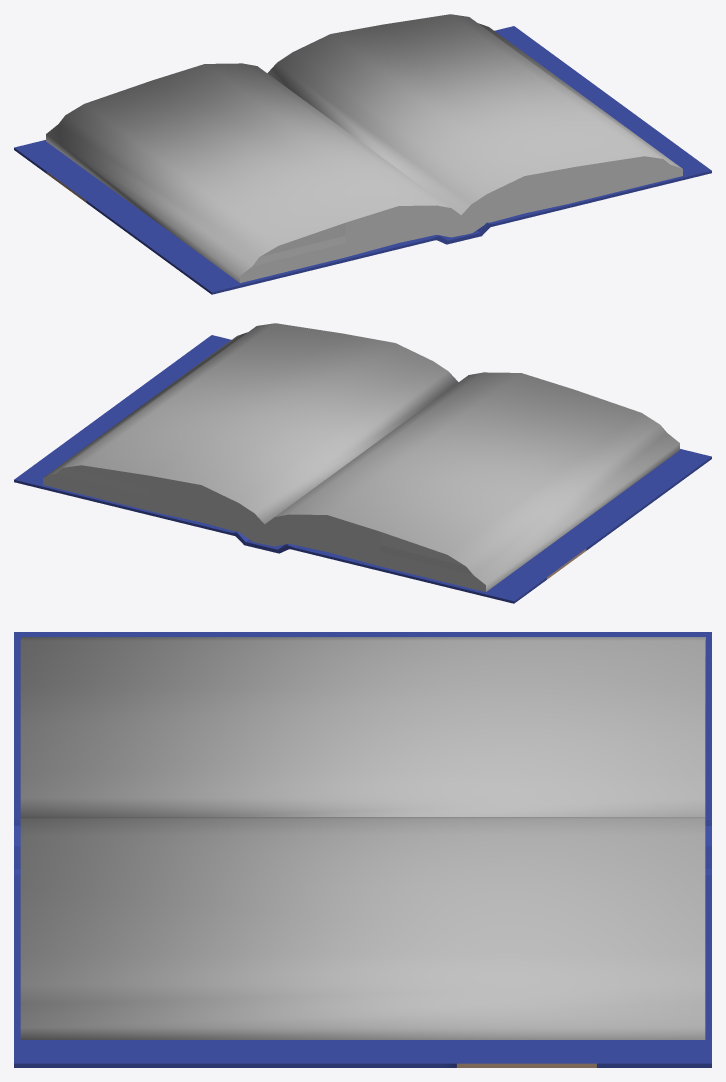
Rendered from book (4).fbx.
3 views of the same model, one above another, from view 1: azimuth 30°, elevation 25°; view 2: azimuth 150°, elevation 25°; view 3: azimuth 270°, elevation 25° (orthographic). The views are drawn at different scales.
Visible parts, largest first — view 1: book; view 2: book; view 3: book.
Part boxes in pixels (x1,y1,x2,y2): book: [14, 14, 711, 294]; book: [14, 323, 711, 603]; book: [14, 632, 711, 1067].
Size of the model in its own units: 107 by 9.98 by 73.51.
